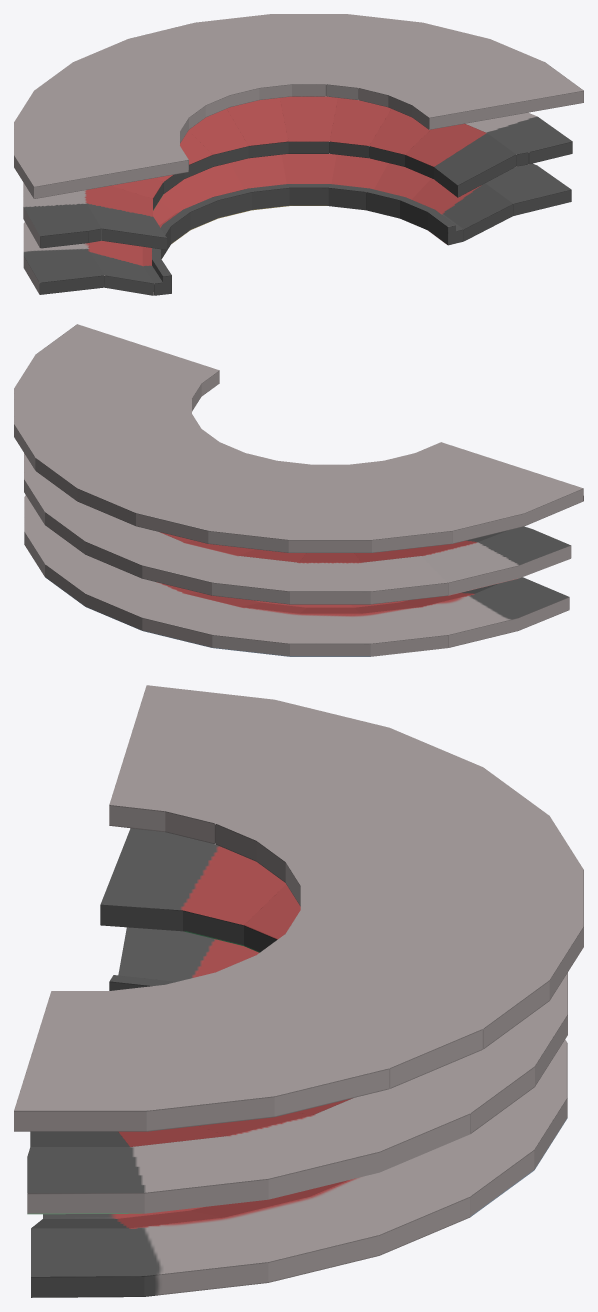
Rendered from crowd.obj.
3 renders of one model, top to bottom at view 1: azimuth 30°, elevation 25°; view 2: azimuth 150°, elevation 25°; view 3: azimuth 270°, elevation 25°, orthographic. The views are drawn at different scales.
Visible parts, largest first — view 1: tube; view 2: tube; view 3: tube.
Part boxes in pixels (left/top/right/bottom): tube: left=14, top=14, right=583, bottom=295; tube: left=14, top=324, right=583, bottom=656; tube: left=14, top=685, right=583, bottom=1297.
Size of the model in its own units: 21.89 by 5.31 by 12.38.
1 material, 1 textured.
